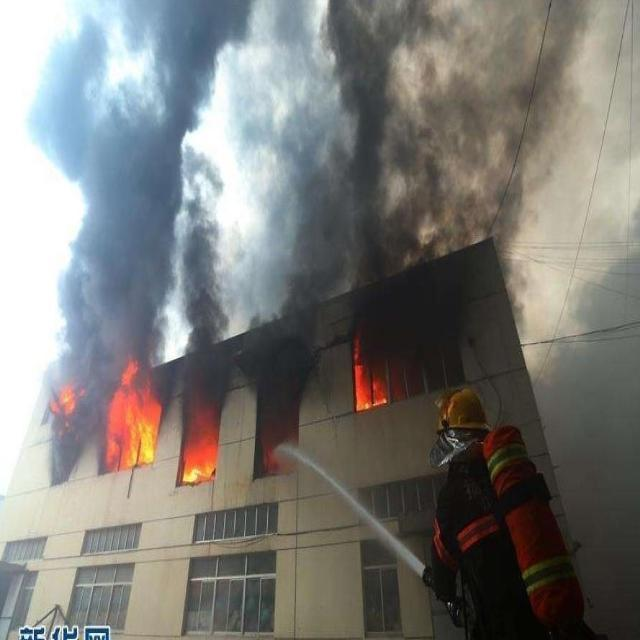Fire: (107, 359, 162, 471), (354, 340, 388, 413), (262, 426, 292, 474), (183, 444, 217, 484), (48, 384, 76, 416)
Smoke: (24, 1, 640, 331), (248, 336, 308, 418), (41, 338, 160, 378), (182, 338, 222, 432), (80, 388, 104, 451), (51, 419, 74, 482)
